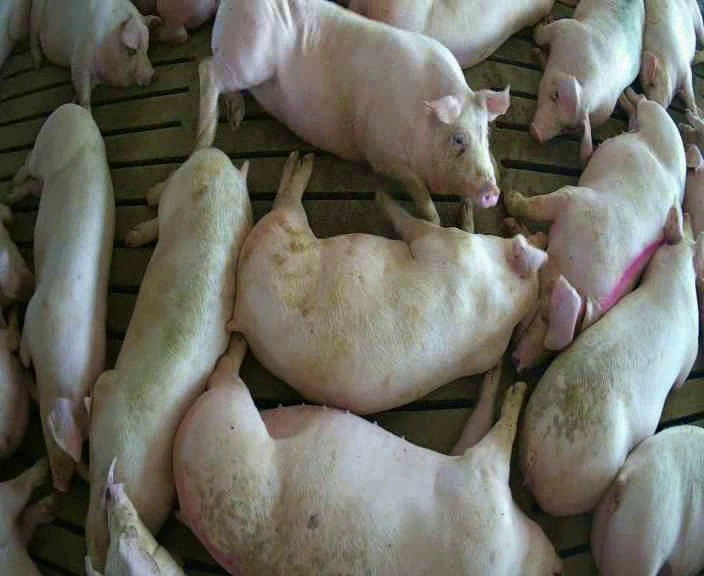pig: (173, 335, 559, 574), (230, 153, 545, 413), (76, 148, 251, 570), (200, 2, 508, 222), (520, 202, 703, 514), (7, 104, 114, 490), (530, 2, 644, 159), (591, 425, 703, 574), (30, 1, 161, 109), (349, 1, 552, 67), (640, 2, 703, 112)
